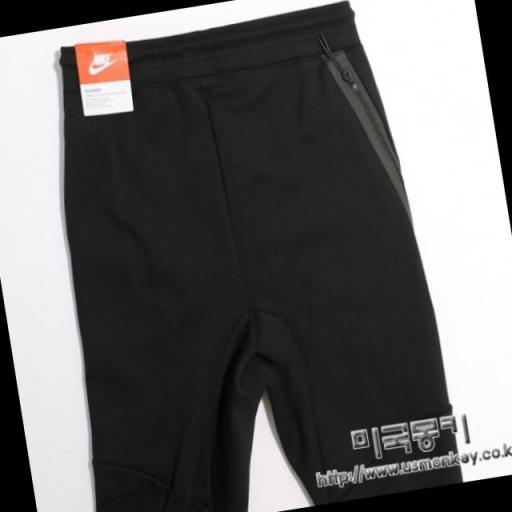Nike: (89, 60, 119, 75), (90, 52, 115, 66)
